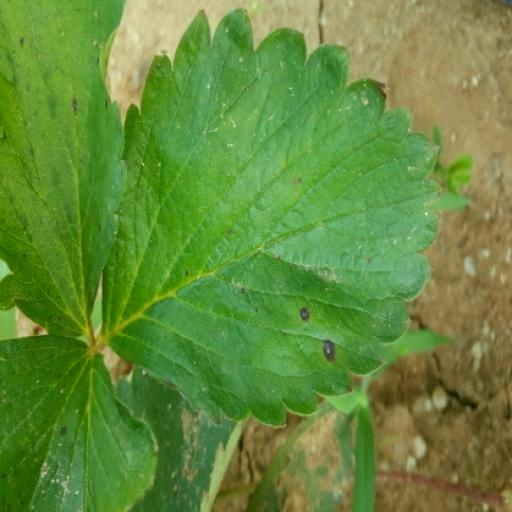Leaf Spot: (101, 85, 443, 504), (0, 175, 128, 511)
